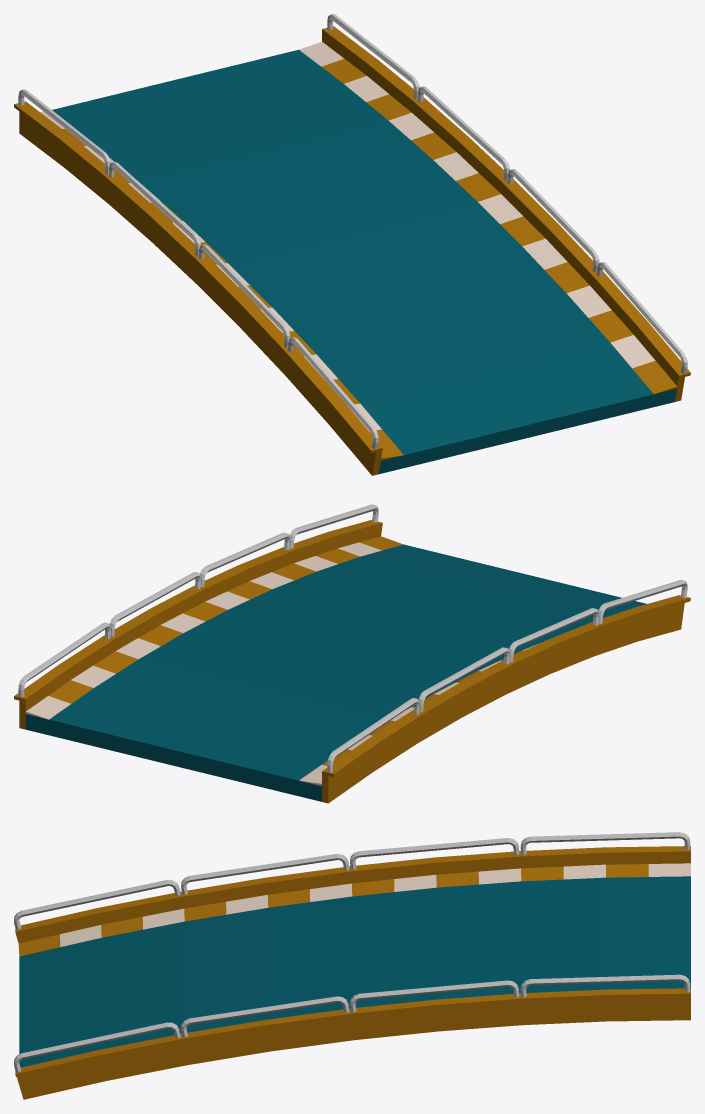
The model's file is descent-15_m.FBX.
3 renders of one model, top to bottom at view 1: azimuth 30°, elevation 25°; view 2: azimuth 150°, elevation 25°; view 3: azimuth 270°, elevation 25°, orthographic. The views are drawn at different scales.
Parts seen in each view (by area): view 1: descent-15_m, wall_r, wall_l, curbs_l, curbs_r; view 2: descent-15_m, wall_r, wall_l, curbs_l, curbs_r; view 3: descent-15_m, wall_l, wall_r, curbs_r.
Part boxes in pixels (x1,y1,x2,y2): descent-15_m: [52, 49, 676, 474]; wall_r: [14, 89, 382, 475]; wall_l: [322, 14, 690, 401]; curbs_l: [299, 41, 677, 393]; curbs_r: [40, 111, 403, 460]; descent-15_m: [25, 544, 646, 801]; wall_r: [322, 580, 690, 803]; wall_l: [14, 504, 382, 729]; curbs_l: [25, 536, 403, 719]; curbs_r: [299, 643, 538, 785]; descent-15_m: [19, 876, 690, 1067]; wall_l: [14, 974, 690, 1099]; wall_r: [14, 832, 690, 943]; curbs_r: [18, 863, 690, 956].
Size of what is drawn, in the model's own units: 207 by 81.36 by 401.
